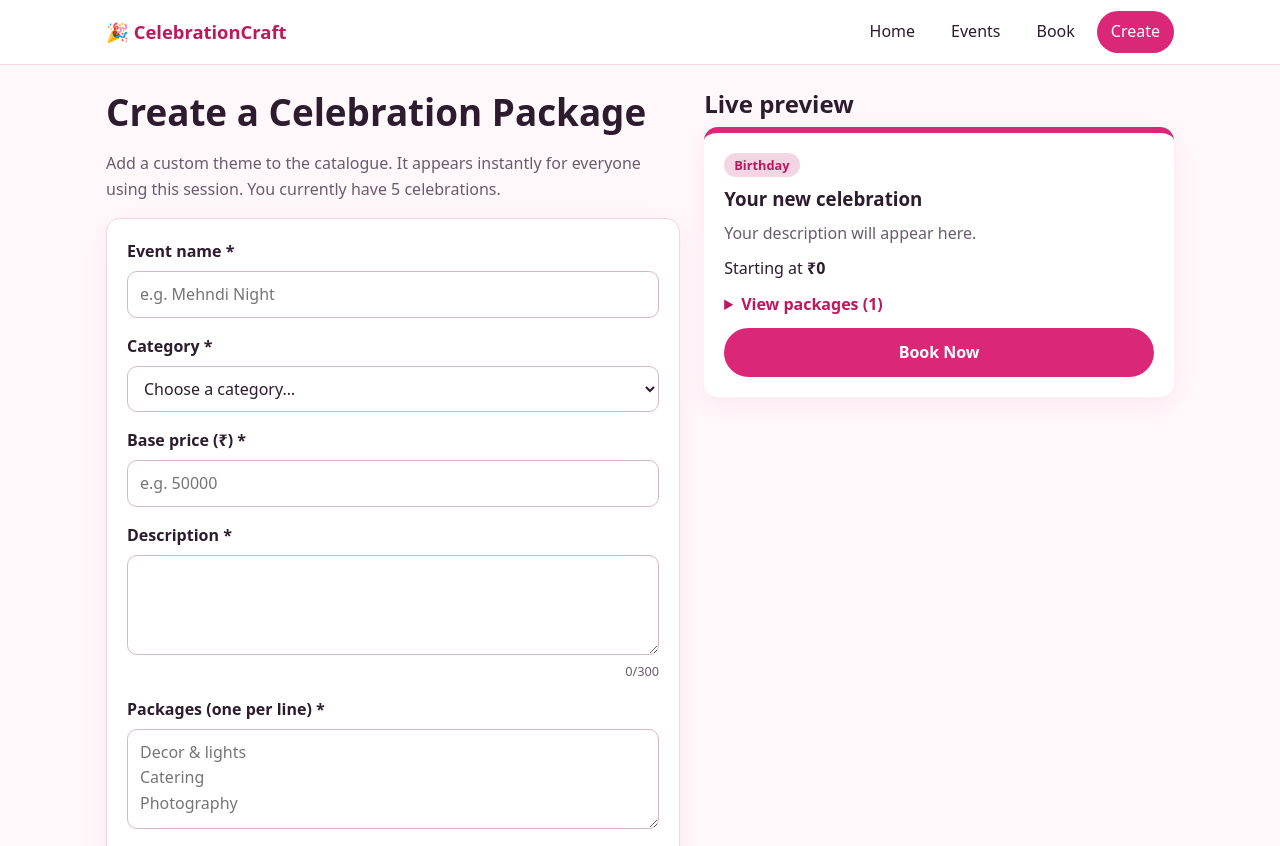
Create celebration form › requires a category
In the field labelled "Event name *": (393, 295) left=127, top=271, right=659, bottom=318, type "Mehndi Night"
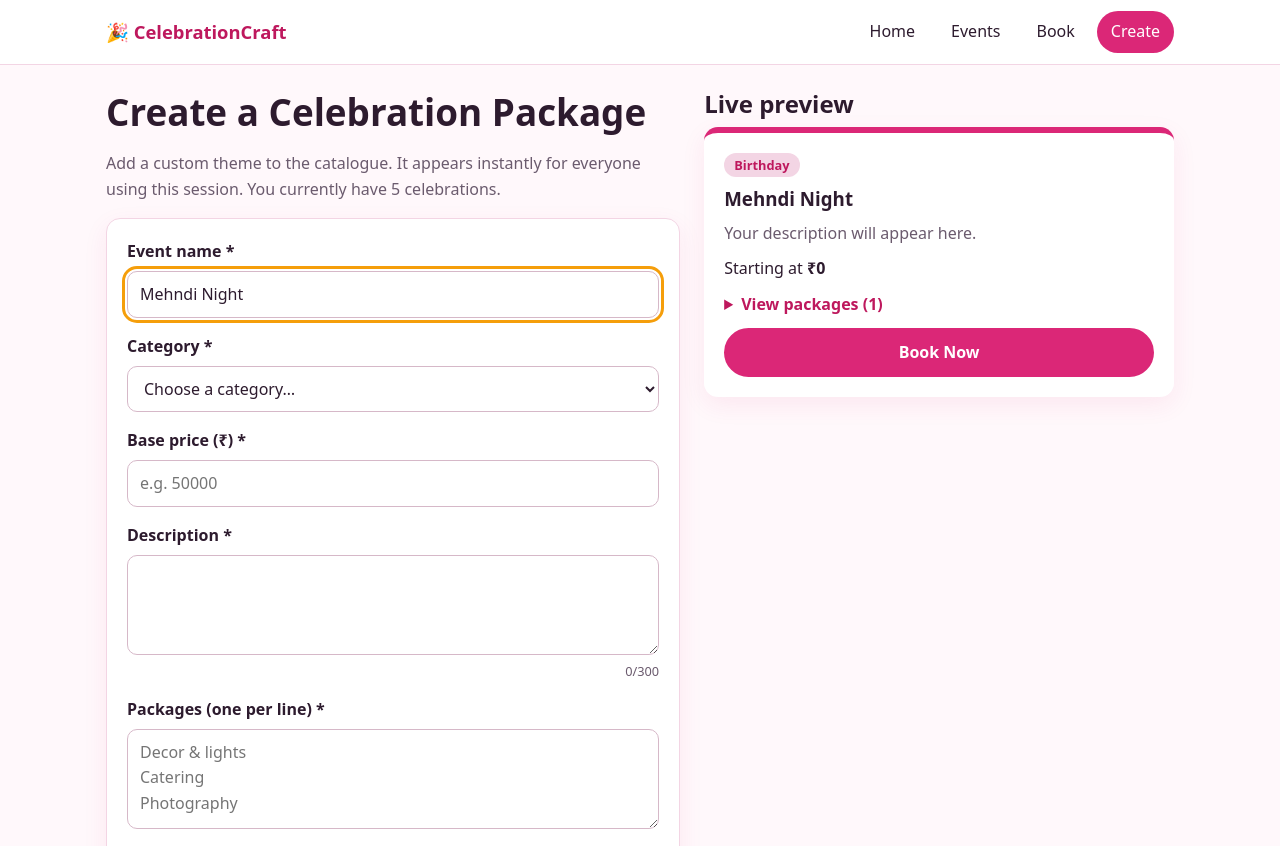
In the number field labelled "Base price (₹) *": (393, 483) left=127, top=460, right=659, bottom=507, type "50000"
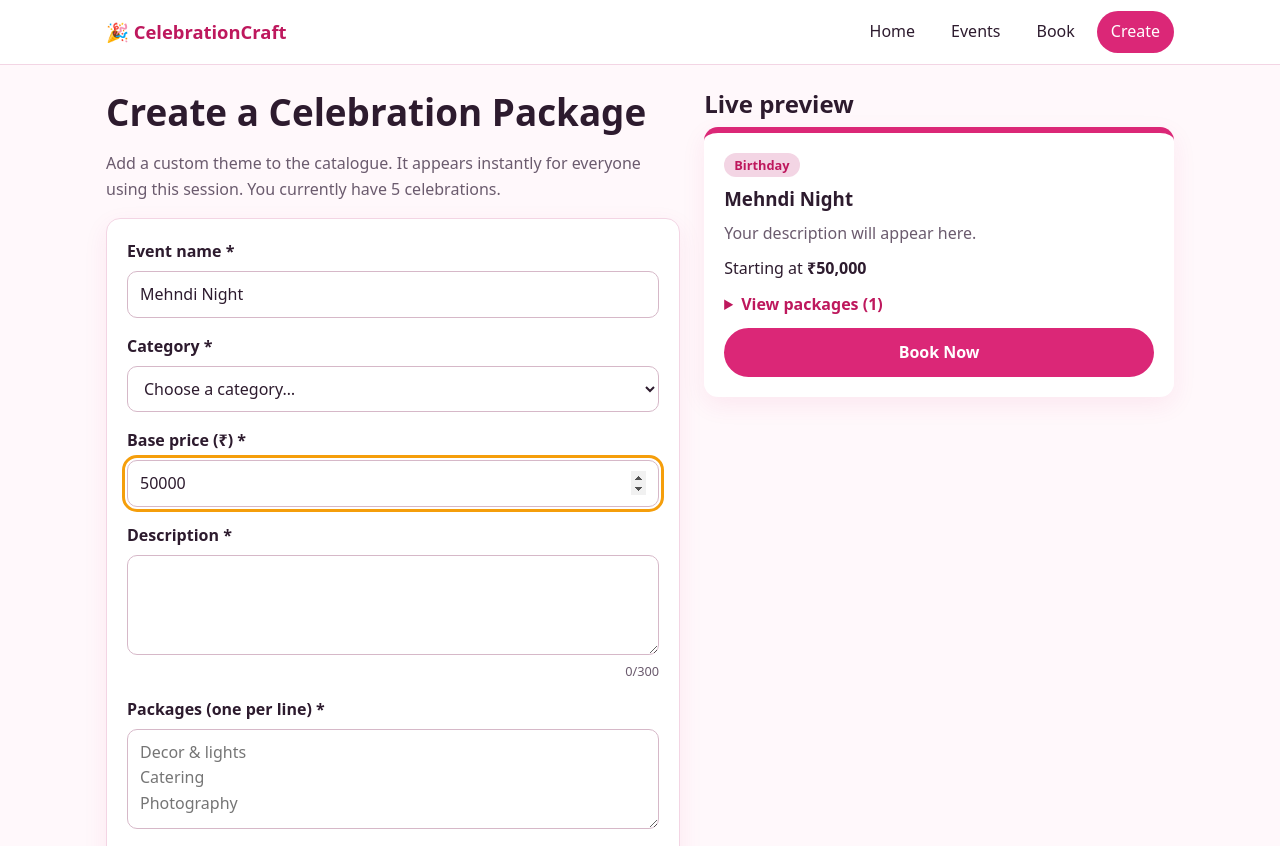
In the text box labelled "Description *": (393, 605) left=127, top=555, right=659, bottom=655, type "A colourful mehndi evening with music."
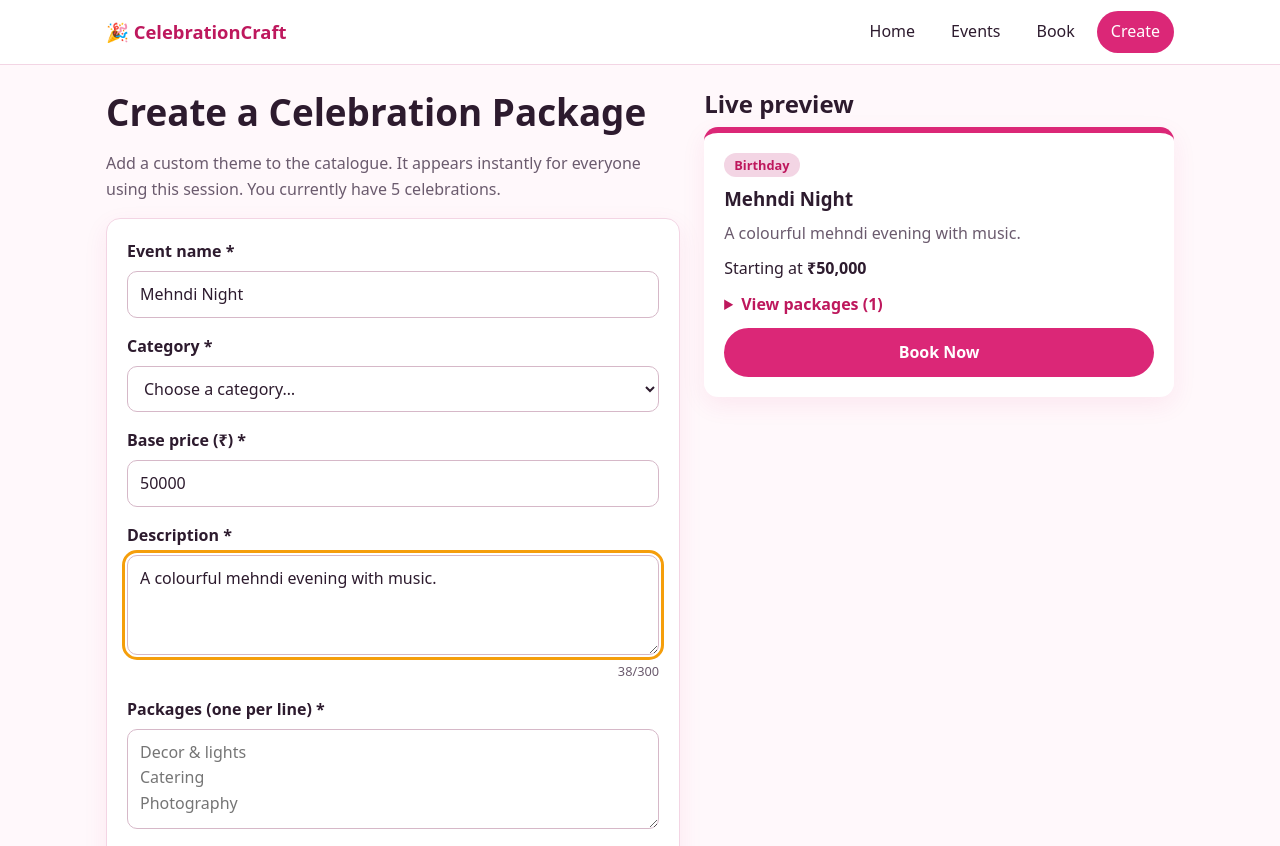
In the text box labelled "Packages (one per line) *": (393, 779) left=127, top=729, right=659, bottom=829, type "Decor & lights"
(page scrolled)
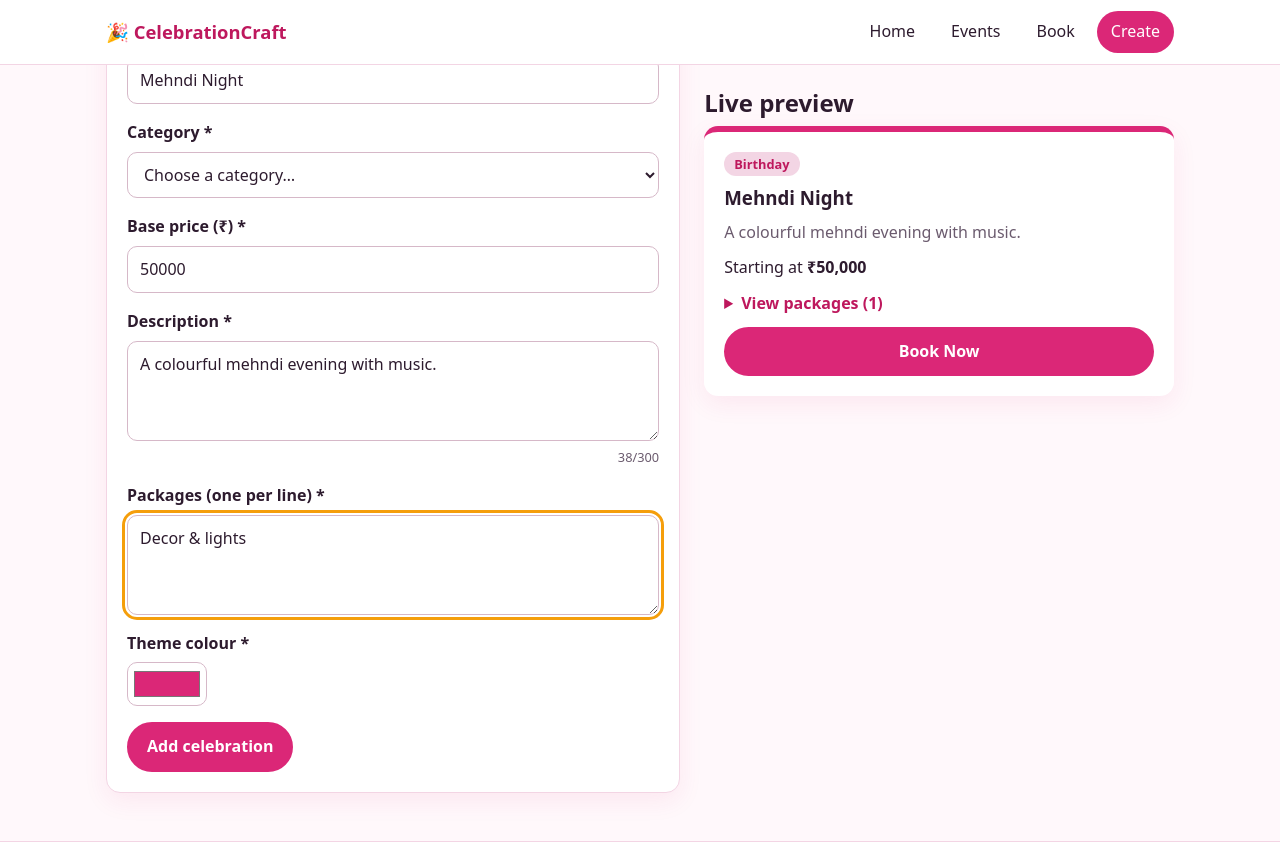
Click the button "Add celebration": (210, 747) left=127, top=722, right=294, bottom=772
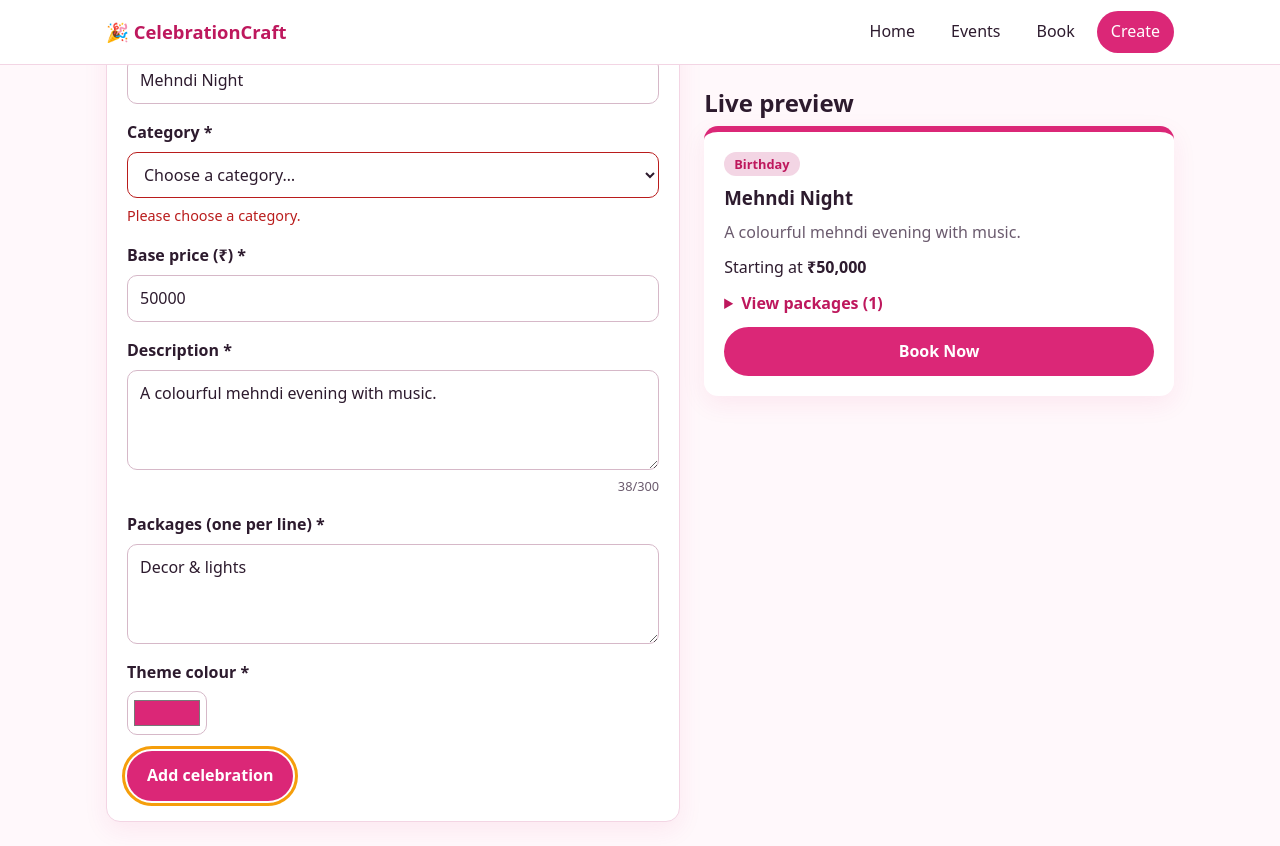
Expected: the text "Please choose a category." is shown, left=127, top=206, right=301, bottom=225
